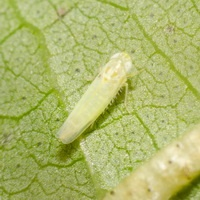insect: (56, 52, 131, 143)
